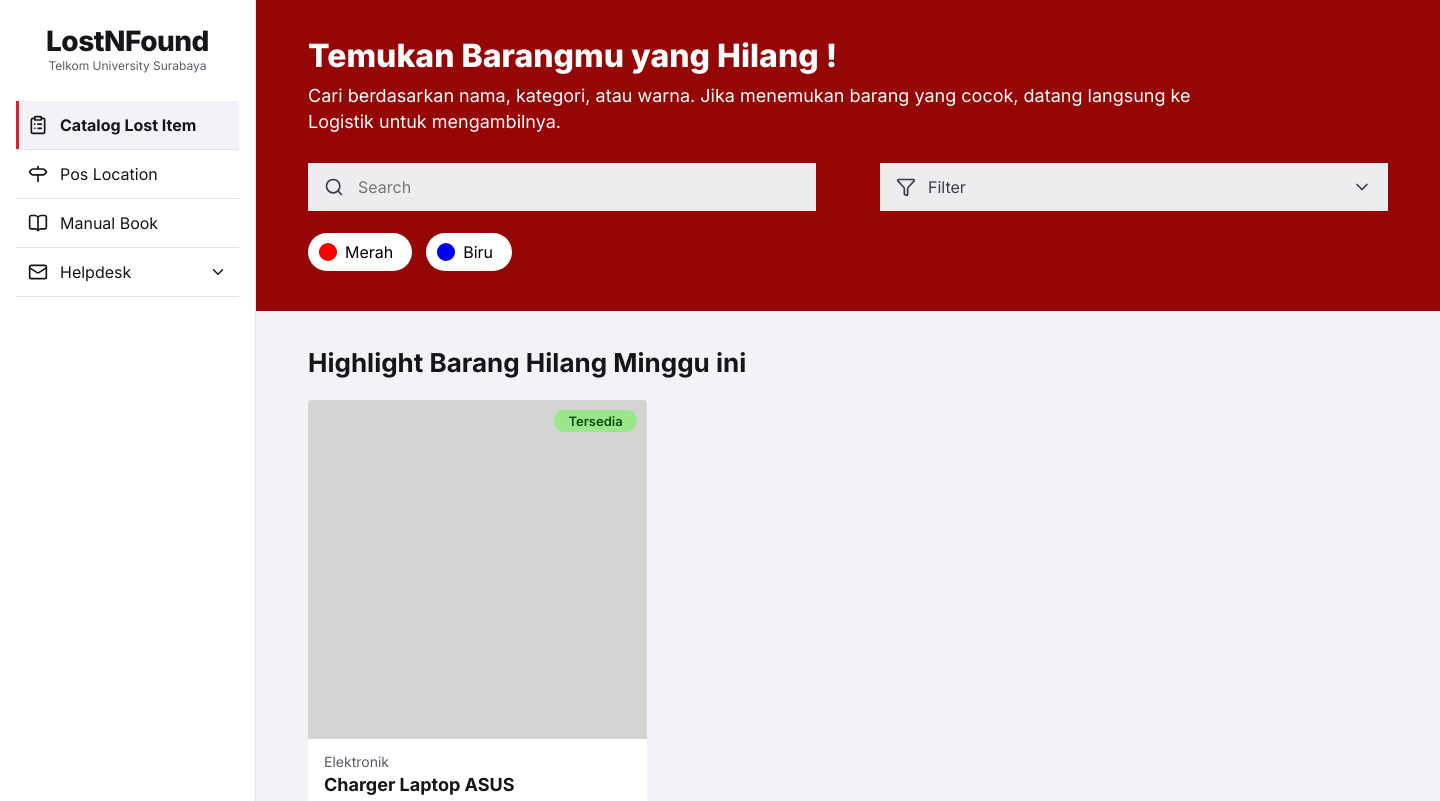
katalog publik › mengirim kata kunci pencarian ke API setelah jeda mengetik
The width and height of the screenshot is (1440, 801).
Type "jaket" into the search field named "Cari barang" at point(578, 187), box [356,176,800,198]
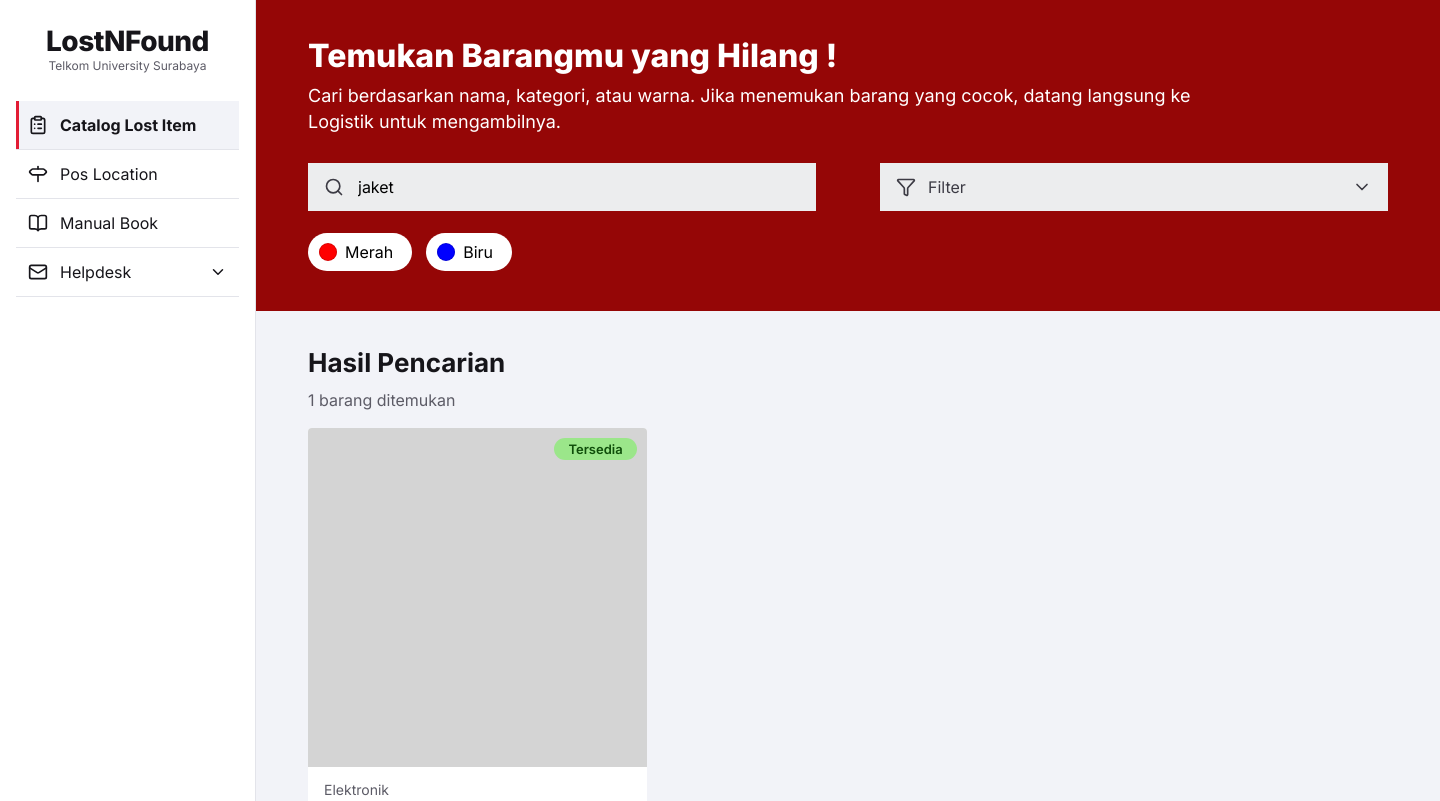
Now the heading "Hasil Pencarian" is shown, box [308,347,505,378]
